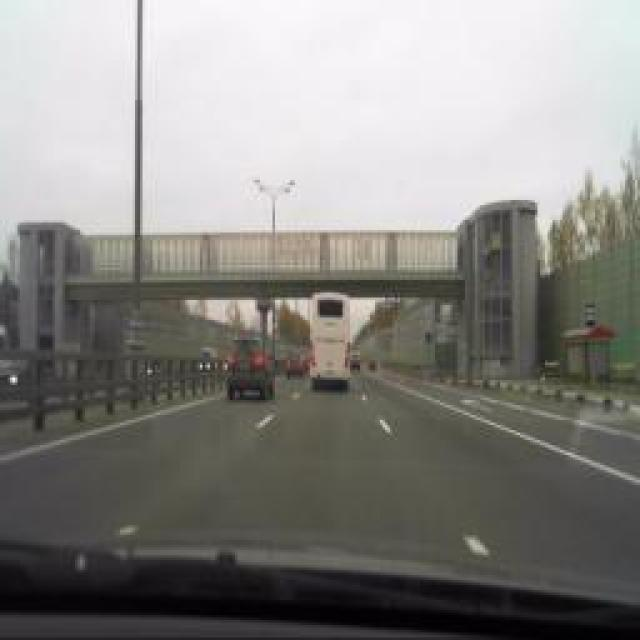sign: (586, 305, 596, 330)
